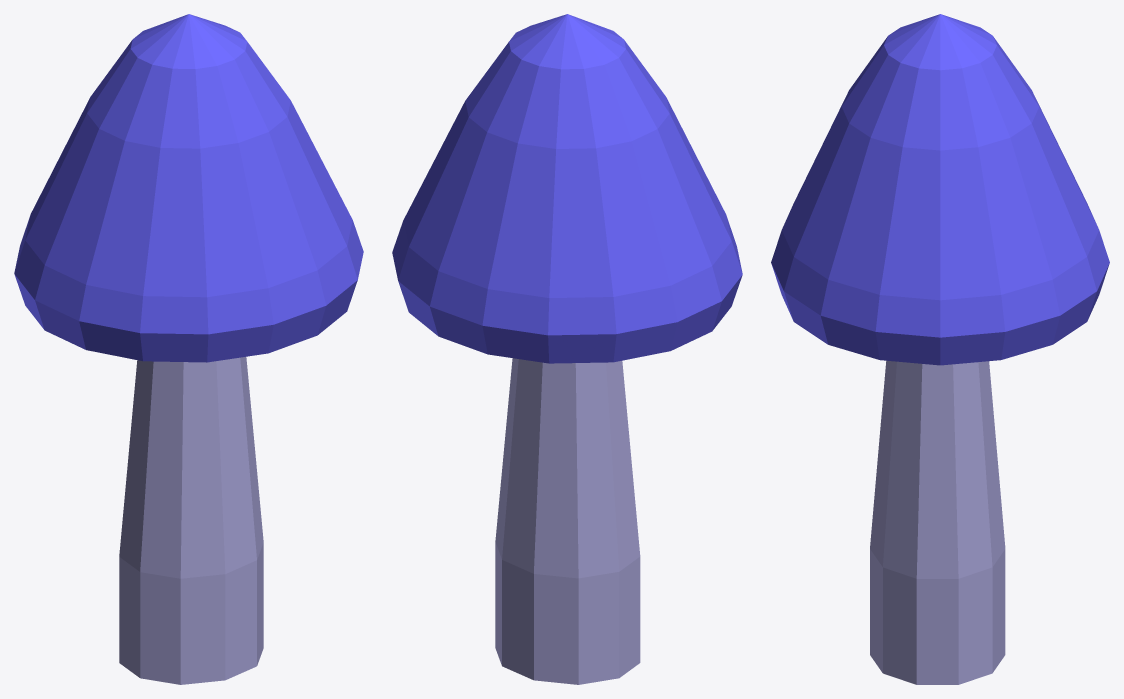
File: Pilz_Lang_2.fbx
3 renders of one model, left to right at view 1: azimuth 30°, elevation 25°; view 2: azimuth 150°, elevation 25°; view 3: azimuth 270°, elevation 25°, orthographic.
Parts seen in each view (by area): view 1: PilzLong_1_Top, PilzLang_1_Bot; view 2: PilzLong_1_Top, PilzLang_1_Bot; view 3: PilzLong_1_Top, PilzLang_1_Bot.
Boxes of the visible parts, left/top/right/bottom form: PilzLong_1_Top: left=14, top=14, right=363, bottom=362; PilzLang_1_Bot: left=119, top=357, right=263, bottom=684; PilzLong_1_Top: left=392, top=14, right=742, bottom=363; PilzLang_1_Bot: left=495, top=358, right=640, bottom=684; PilzLong_1_Top: left=771, top=14, right=1109, bottom=365; PilzLang_1_Bot: left=870, top=360, right=1005, bottom=684.
Size of the model in its own units: 8.68 by 17.25 by 8.27.
